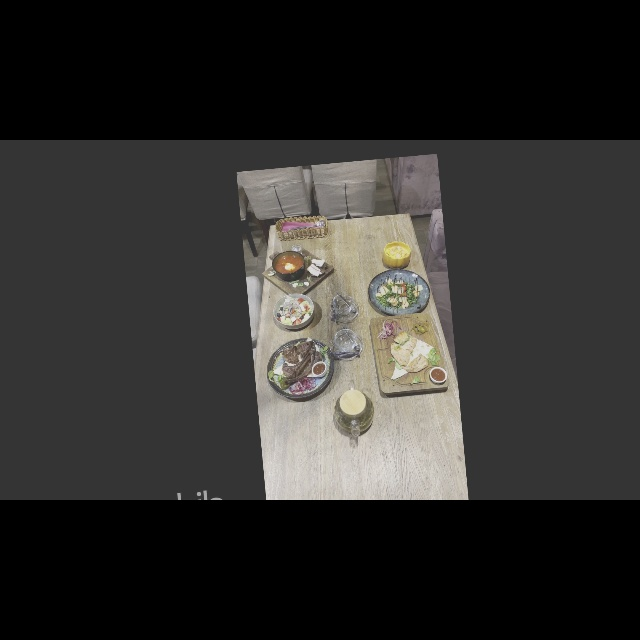Том ям: (259, 244, 336, 299)
графин с чаем: (331, 379, 376, 439)
закуска: (369, 311, 450, 397)
мясное блюдо: (264, 336, 337, 402)
салат: (366, 266, 432, 319)
салат цезарь: (271, 292, 316, 332)
суп сырный: (381, 240, 412, 270)
